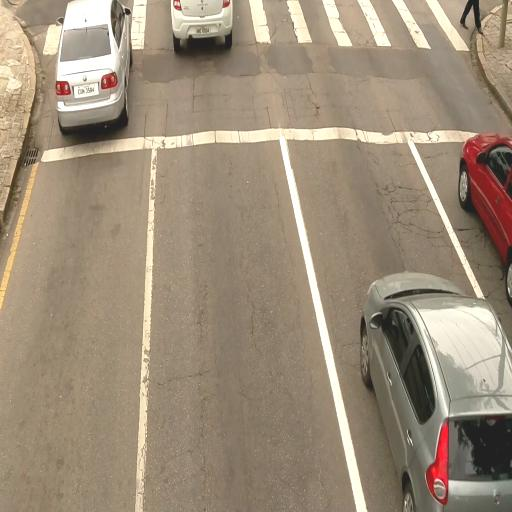car: (359, 275, 512, 507), (54, 1, 134, 136), (458, 129, 512, 309), (170, 1, 233, 52)
